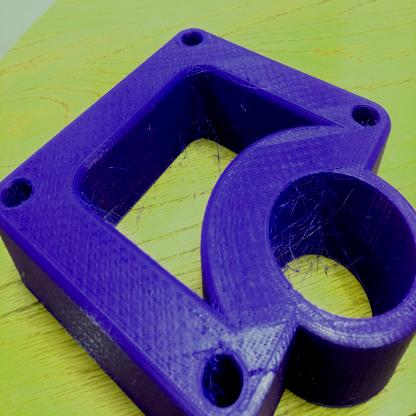fail: (273, 176, 350, 282), (181, 74, 228, 163)
